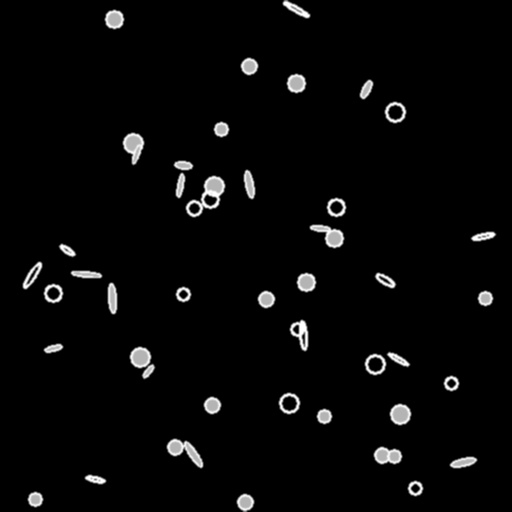pseudomonas: (182, 440, 204, 468), (21, 261, 43, 289), (282, 0, 310, 18), (387, 351, 409, 367), (243, 170, 255, 198), (375, 272, 395, 288), (450, 456, 476, 468), (298, 320, 308, 350), (359, 80, 373, 98), (471, 231, 495, 241), (108, 284, 116, 312), (72, 270, 100, 278), (141, 364, 155, 378), (176, 173, 184, 197), (59, 244, 75, 256), (131, 145, 141, 163), (44, 344, 62, 352), (86, 475, 104, 483), (175, 161, 191, 169), (310, 225, 330, 231)
synechocystis: (131, 348, 149, 366), (205, 177, 223, 195), (280, 394, 298, 412), (366, 355, 384, 373), (386, 103, 404, 121), (391, 405, 409, 423), (124, 134, 142, 152), (326, 230, 342, 246), (106, 11, 122, 27), (45, 285, 61, 301), (288, 75, 304, 91), (202, 191, 218, 207), (298, 274, 314, 290), (328, 199, 344, 215), (375, 448, 389, 462), (242, 59, 256, 73), (187, 201, 201, 215), (205, 398, 219, 412), (168, 440, 182, 454), (238, 495, 252, 509), (259, 292, 273, 306), (318, 410, 330, 422), (215, 123, 227, 135), (177, 288, 189, 300), (479, 292, 491, 304), (29, 493, 41, 505), (409, 482, 421, 494), (445, 377, 457, 389), (388, 450, 400, 462), (291, 323, 303, 335)
